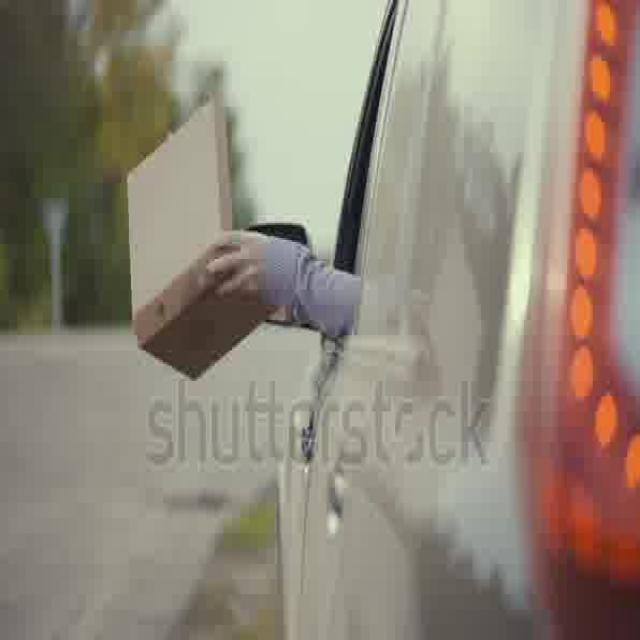trash: (114, 96, 293, 387)
